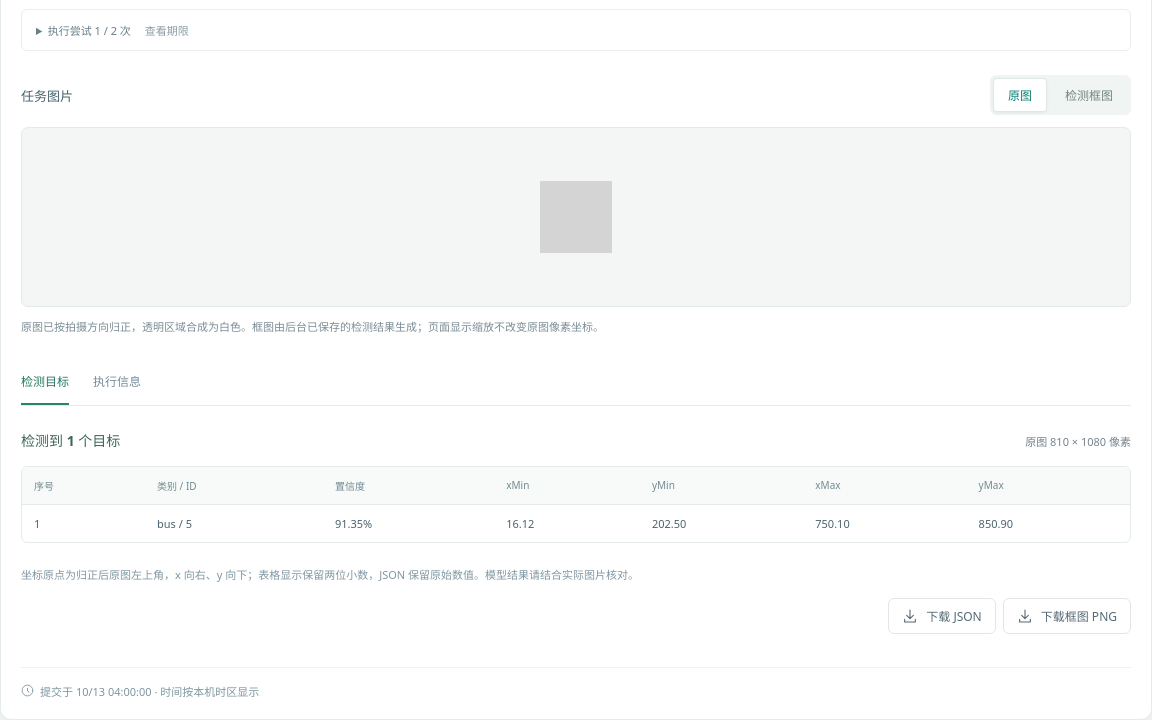
Test: vision task images and detection output › fetches a PNG download independently of original preview and suppresses download after leaving
(page scrolled)
Click the button "下载框图 PNG": (1067, 616) [1003, 598, 1131, 634]
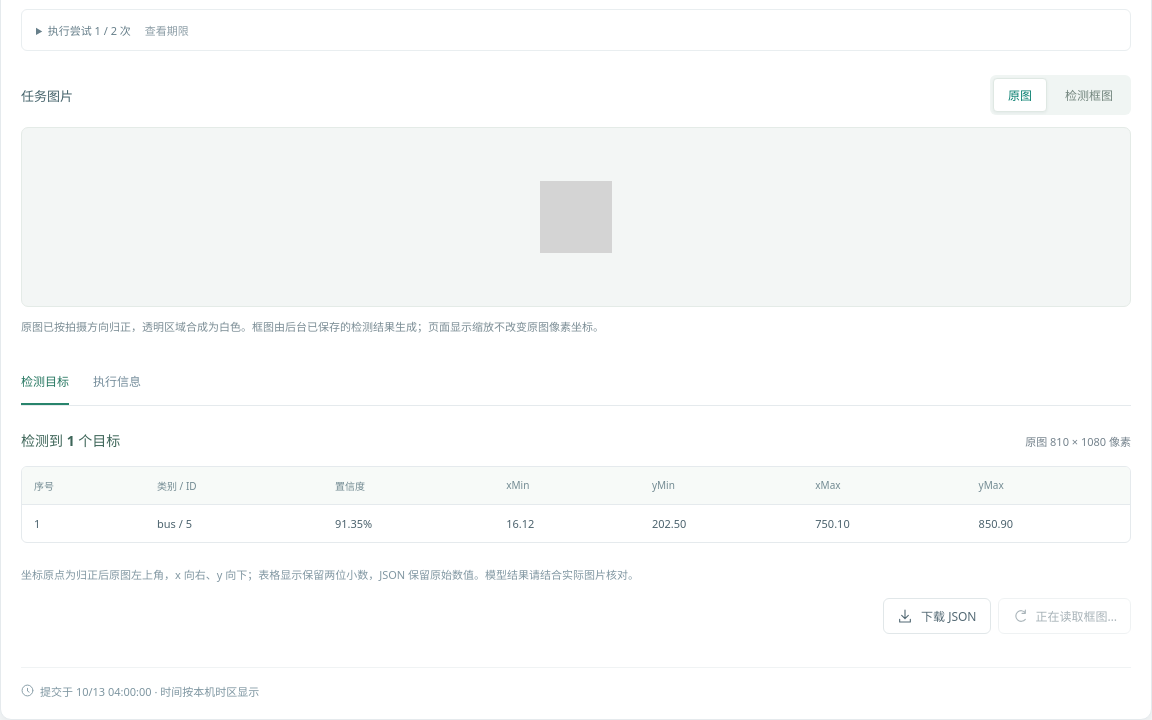
Now the button "正在读取框图…" is disabled, box [998, 598, 1131, 634]
